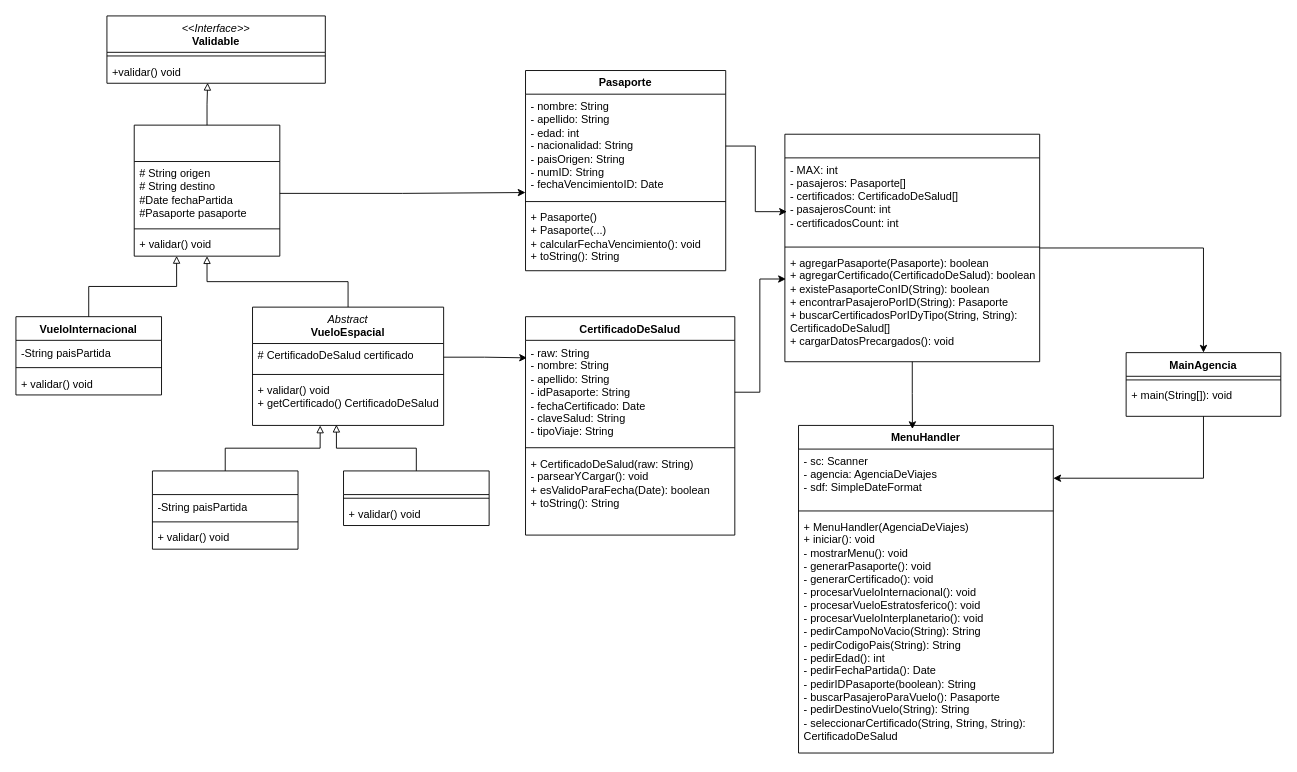
Some shapes in this 1297 by 772 pixel diagram are drawn without their labels. The box of each missing label's shape, as (x1, y1, x2, y2) in pixels:
Abstract Vuelo: (133, 124, 280, 256)
AgenciaDeViajes: (784, 133, 1040, 362)
VueloEstratosferico: (152, 470, 298, 549)
VueloInterplanetario: (343, 470, 489, 526)
